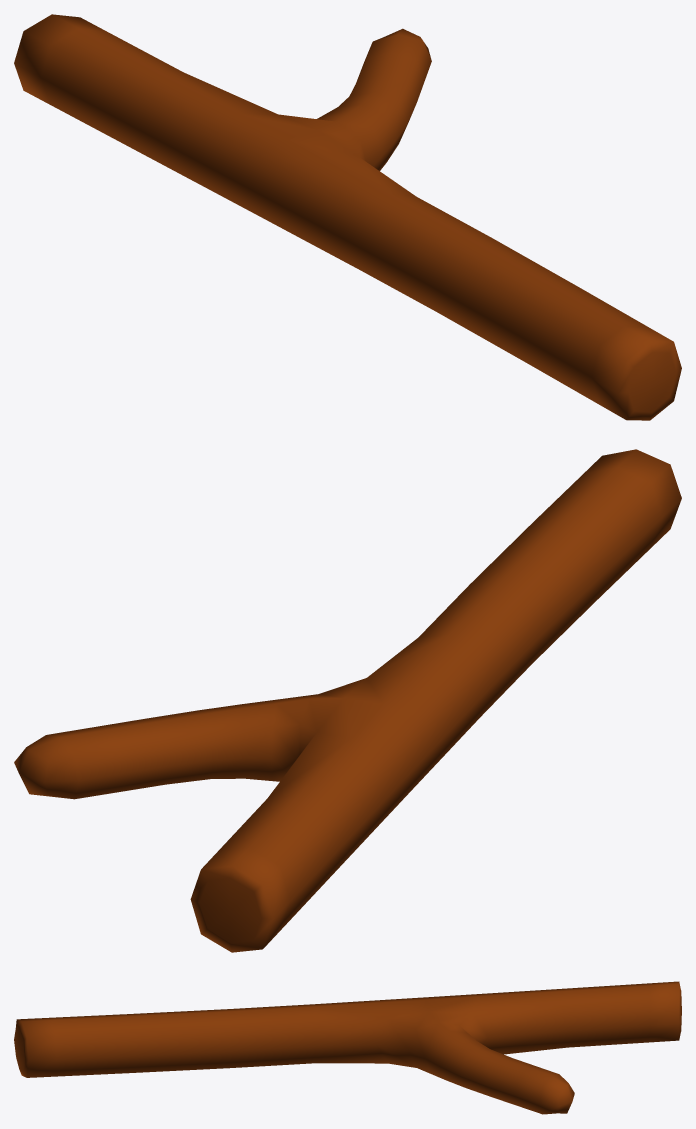
Rendered from Stick1.obj.
The picture shows the model from 3 angles, top to bottom: view 1: azimuth 30°, elevation 25°; view 2: azimuth 150°, elevation 25°; view 3: azimuth 270°, elevation 25°; orthographic projection. The views are drawn at different scales.
Visible parts, largest first — view 1: Box003; view 2: Box003; view 3: Box003.
Part boxes in pixels (<box>): Box003: <box>14,14,681,420</box>; Box003: <box>14,449,681,952</box>; Box003: <box>14,981,681,1114</box>.
Bounding box in the file's own units: 1.58 × 0.3671 × 4.13.
